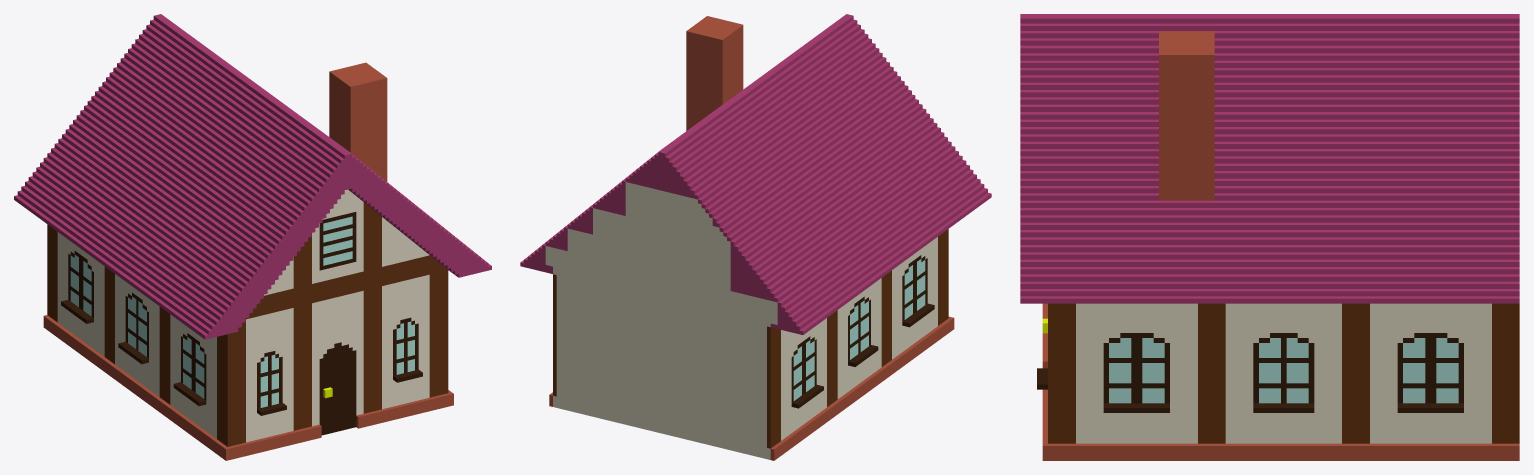
The model's file is house.pink.obj.
3 renders of one model, left to right at view 1: azimuth 30°, elevation 25°; view 2: azimuth 150°, elevation 25°; view 3: azimuth 270°, elevation 25°, orthographic. The views are drawn at different scales.
Bounding box in the file's own units: 7.8 × 7.8 × 9.
Materials: 1 (1 with a texture image).
